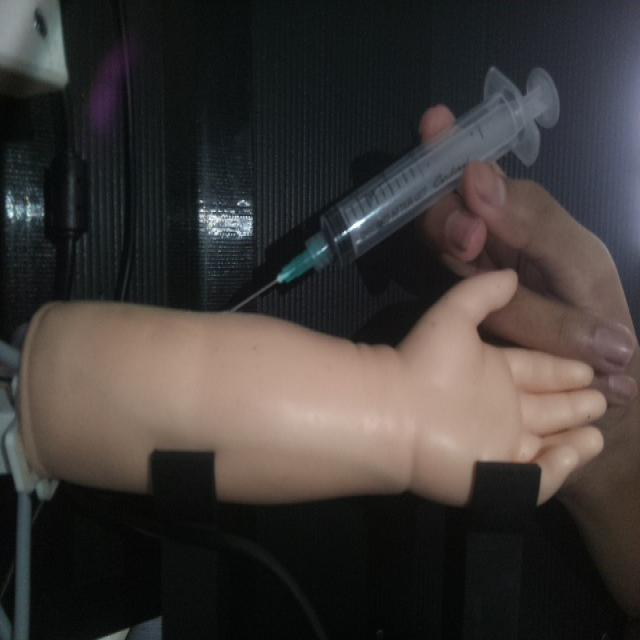Outside: (224, 62, 564, 319)
